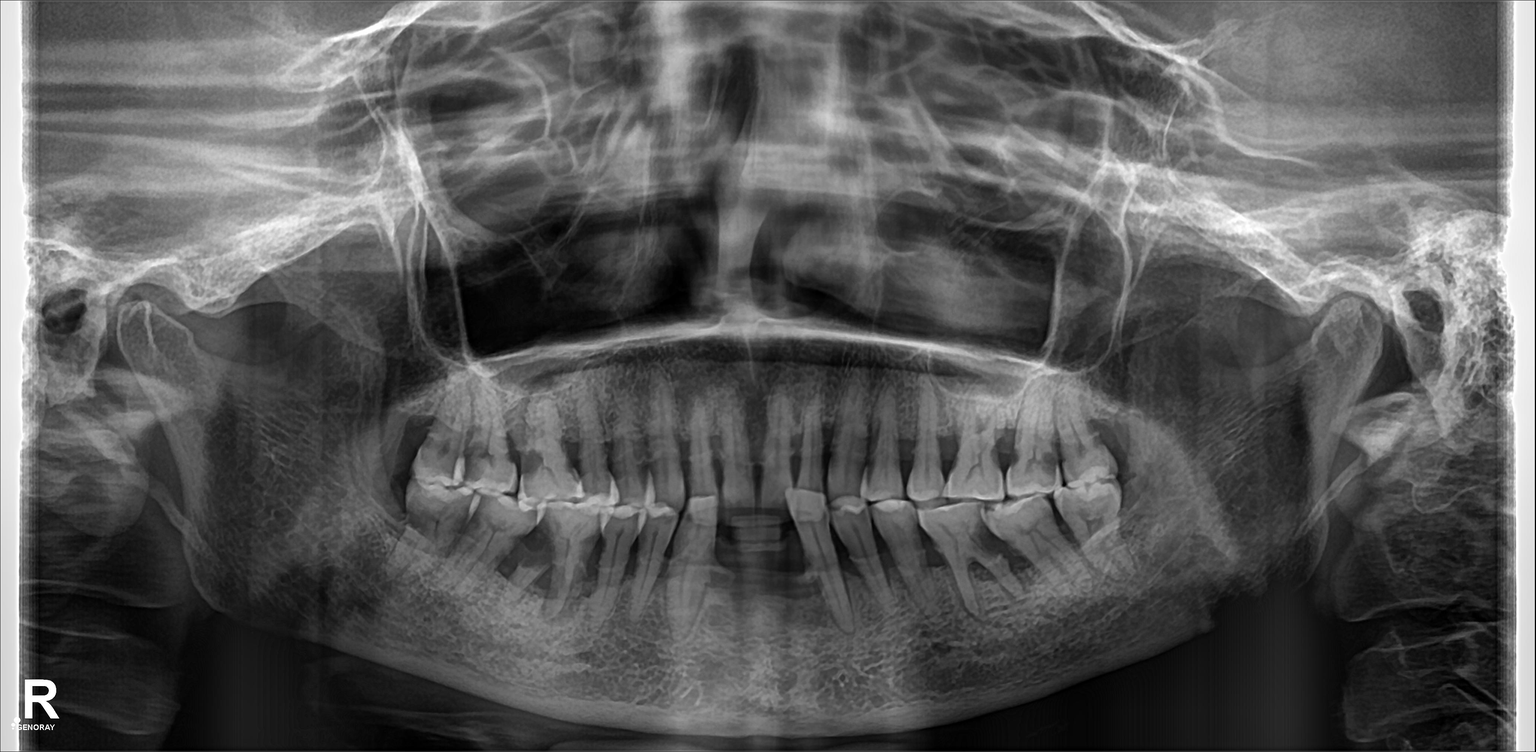Dental Caries: (978, 521, 1010, 559), (896, 426, 924, 463), (514, 450, 547, 478), (458, 449, 486, 480), (991, 430, 1015, 463)
Missing Tooth: (765, 508, 816, 605), (713, 510, 757, 597), (382, 393, 423, 483)
Retained Root: (516, 536, 554, 620)
